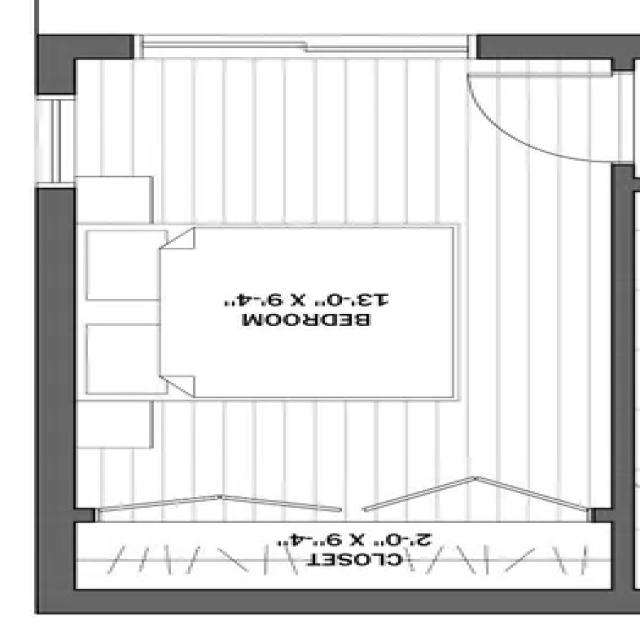Doors: (457, 73, 637, 168)
